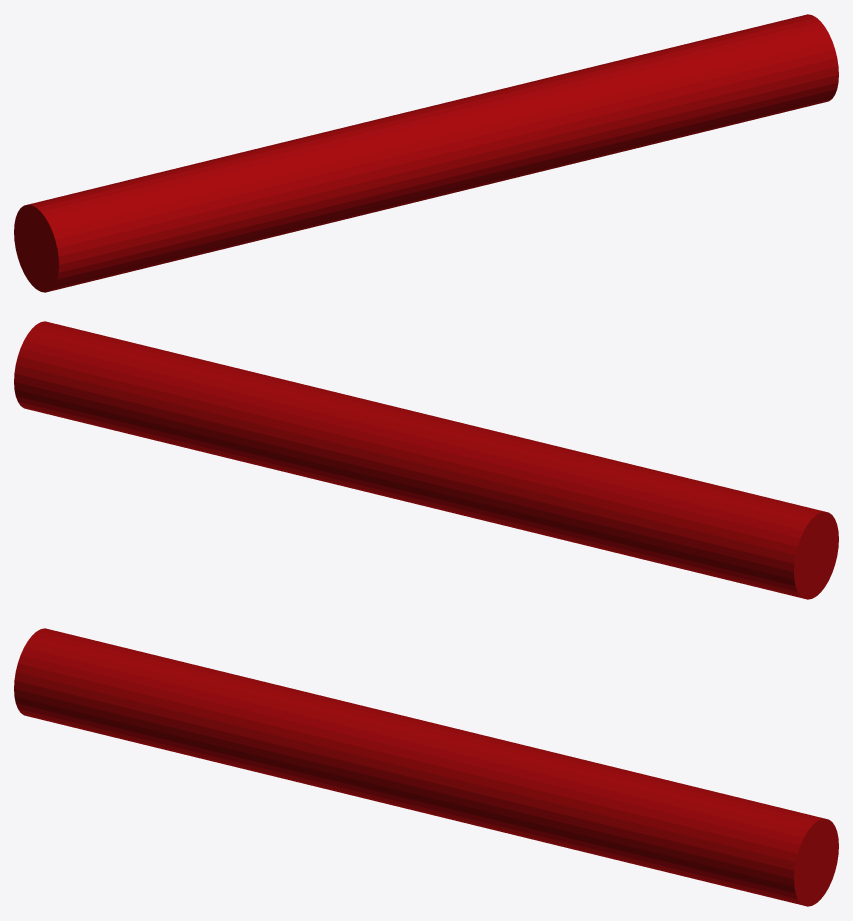
Rendered from Arrow_Y.obj.
The picture shows the model from 3 angles, top to bottom: view 1: azimuth 30°, elevation 25°; view 2: azimuth 150°, elevation 25°; view 3: azimuth 330°, elevation 25°; orthographic projection.
Parts seen in each view (by area): view 1: Arrow_X.001_Cylinder.002; view 2: Arrow_X.001_Cylinder.002; view 3: Arrow_X.001_Cylinder.002.
Part boxes in pixels (x1,y1,x2,y2): Arrow_X.001_Cylinder.002: (14,14,838,292); Arrow_X.001_Cylinder.002: (14,321,838,599); Arrow_X.001_Cylinder.002: (14,628,838,906).
Size of the model in its own units: 1 by 0.1 by 0.1.
